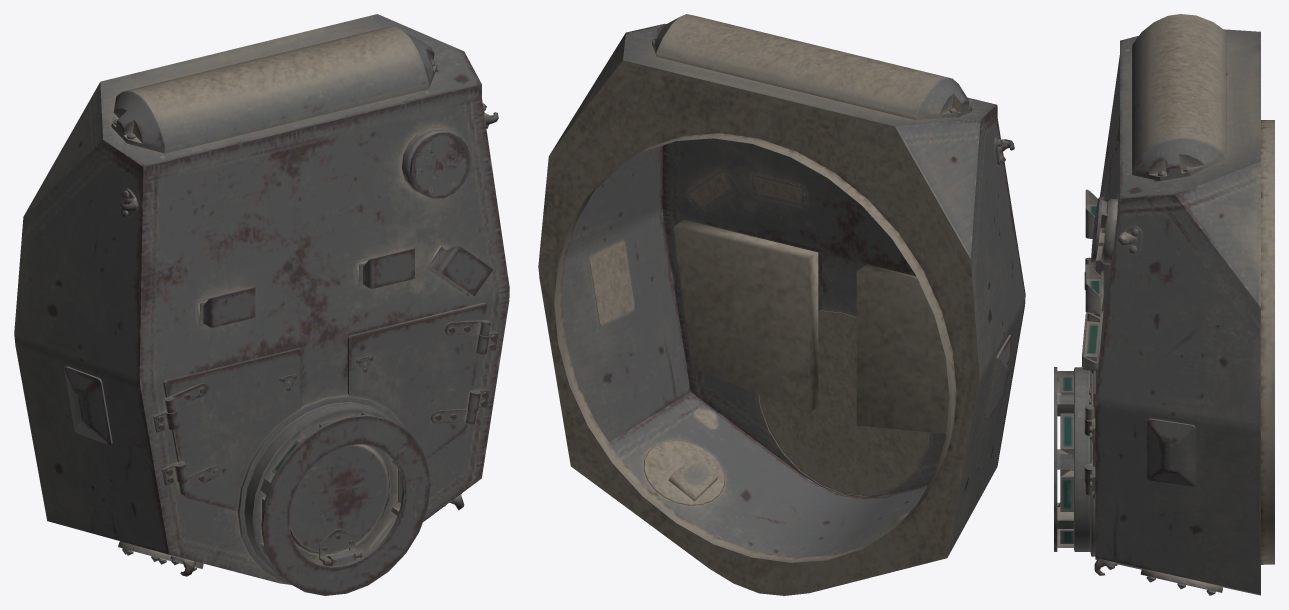
File: Turret_01.glb
3 renders of one model, left to right at view 1: azimuth 30°, elevation 25°; view 2: azimuth 150°, elevation 25°; view 3: azimuth 270°, elevation 25°, orthographic. The views are drawn at different scales.
Parts seen in each view (by area): view 1: set_0_group_0; view 2: set_0_group_0; view 3: set_0_group_0.
Boxes of the visible parts, bbox=[...] form: set_0_group_0: bbox=[14, 14, 509, 595]; set_0_group_0: bbox=[538, 14, 1025, 595]; set_0_group_0: bbox=[1054, 14, 1274, 595].
Bounding box in the file's own units: 1.93 × 2.16 × 0.8556.
1 material, 1 textured.
